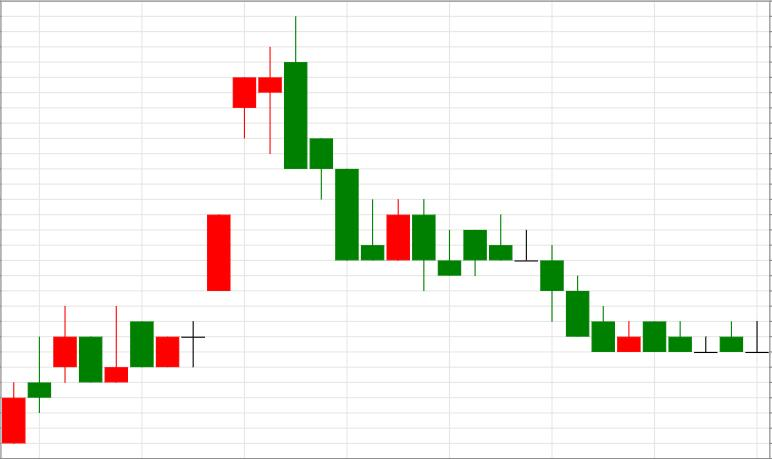bearish_engulfing_fall: (105, 18, 307, 383)
